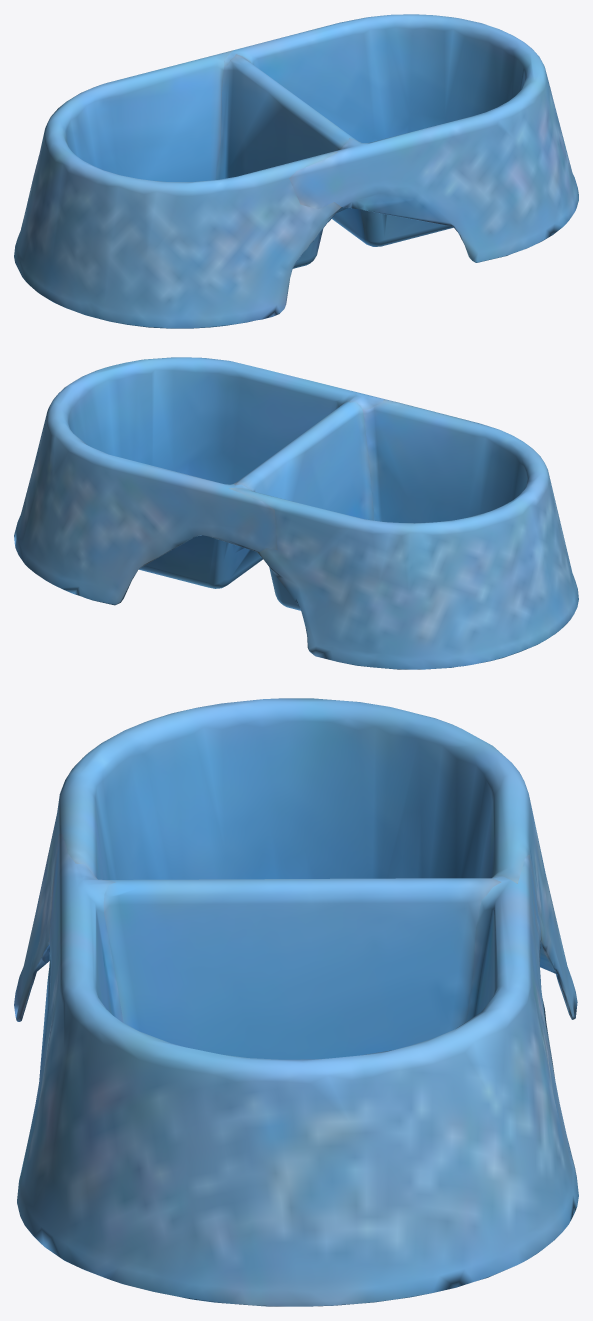
File: Grreat_Choice_Dog_Double_Dish_Plastic_Blue-high.glb
The picture shows the model from 3 angles, top to bottom: view 1: azimuth 30°, elevation 25°; view 2: azimuth 150°, elevation 25°; view 3: azimuth 270°, elevation 25°; orthographic projection. The views are drawn at different scales.
Parts seen in each view (by area): view 1: Grreat_Choice_Dog_Double_Dish_Plastic_Blue; view 2: Grreat_Choice_Dog_Double_Dish_Plastic_Blue; view 3: Grreat_Choice_Dog_Double_Dish_Plastic_Blue.
Boxes of the visible parts, x1,y1,x2,y2 form: Grreat_Choice_Dog_Double_Dish_Plastic_Blue: [14, 14, 578, 328]; Grreat_Choice_Dog_Double_Dish_Plastic_Blue: [14, 357, 578, 669]; Grreat_Choice_Dog_Double_Dish_Plastic_Blue: [14, 698, 578, 1306].
Bounding box in the file's own units: 0.3381 × 0.0838 × 0.1885.
1 material, 1 textured.
